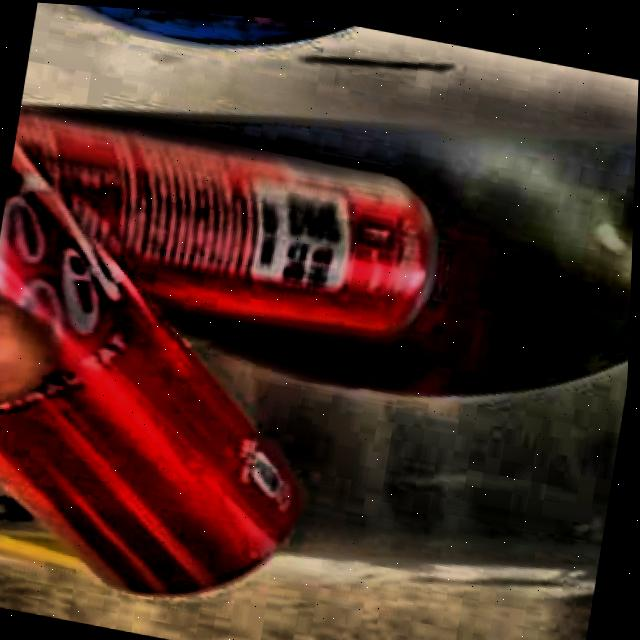metal: (0, 109, 431, 591)
